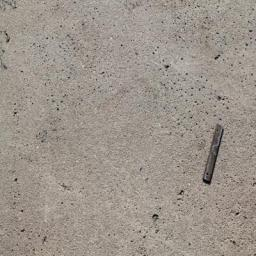FOD: (202, 119, 226, 188)
